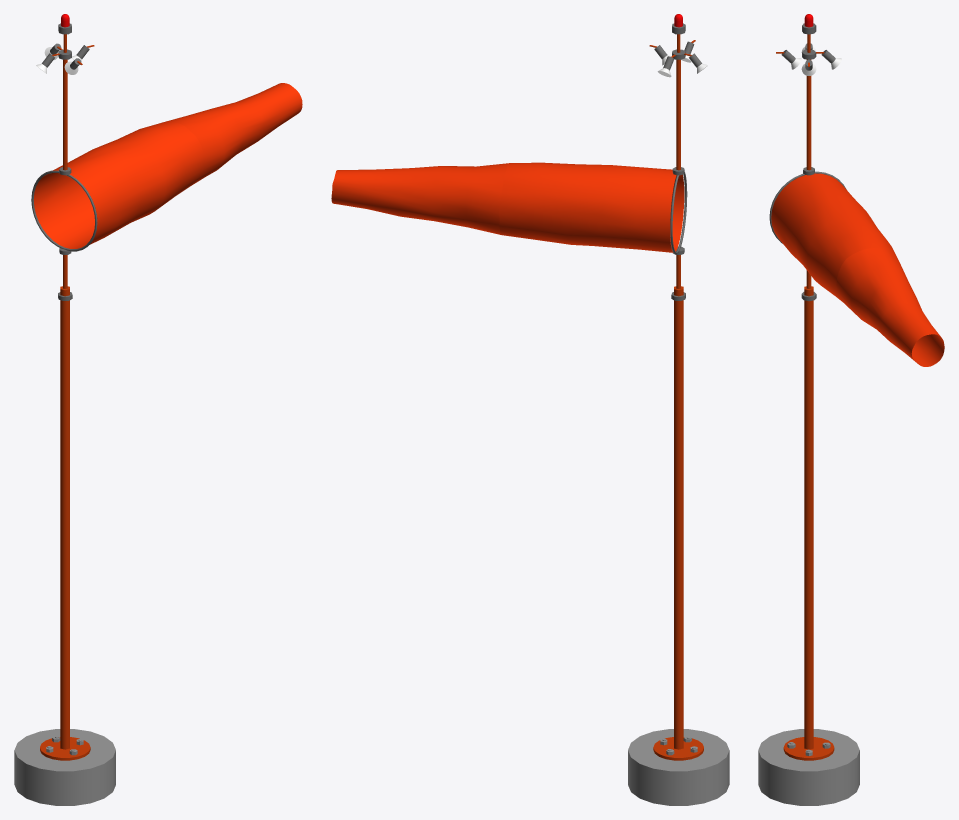
File: windsock.FBX
3 renders of one model, left to right at view 1: azimuth 30°, elevation 25°; view 2: azimuth 150°, elevation 25°; view 3: azimuth 270°, elevation 25°, orthographic.
Parts seen in each view (by area): view 1: Cone01, Cylinder15, Cone03, Cylinder01, Cylinder03, Torus01, Cylinder08; view 2: Cone01, Cone03, Cylinder15, Cylinder01, Cylinder03; view 3: Cone01, Cone03, Cylinder15, Cylinder01, Cylinder03, Cylinder08.
Boxes of the visible parts, x1=… form: Cone01: x1=33, y1=121, x2=204, y2=248; Cylinder15: x1=14, y1=729, x2=115, y2=805; Cone03: x1=165, y1=83, x2=302, y2=184; Cylinder01: x1=60, y1=286, x2=69, y2=749; Cylinder03: x1=40, y1=737, x2=90, y2=760; Torus01: x1=31, y1=170, x2=97, y2=251; Cylinder08: x1=63, y1=59, x2=67, y2=170; Cone01: x1=499, y1=162, x2=684, y2=252; Cone03: x1=331, y1=163, x2=508, y2=234; Cylinder15: x1=628, y1=729, x2=729, y2=805; Cylinder01: x1=674, y1=286, x2=683, y2=749; Cylinder03: x1=653, y1=737, x2=703, y2=760; Cone01: x1=771, y1=173, x2=899, y2=301; Cone03: x1=836, y1=248, x2=944, y2=366; Cylinder15: x1=758, y1=729, x2=859, y2=805; Cylinder01: x1=804, y1=286, x2=813, y2=749; Cylinder03: x1=783, y1=737, x2=834, y2=760; Cylinder08: x1=806, y1=59, x2=811, y2=170.
Size of the model in its own units: 221 by 489 by 107.
